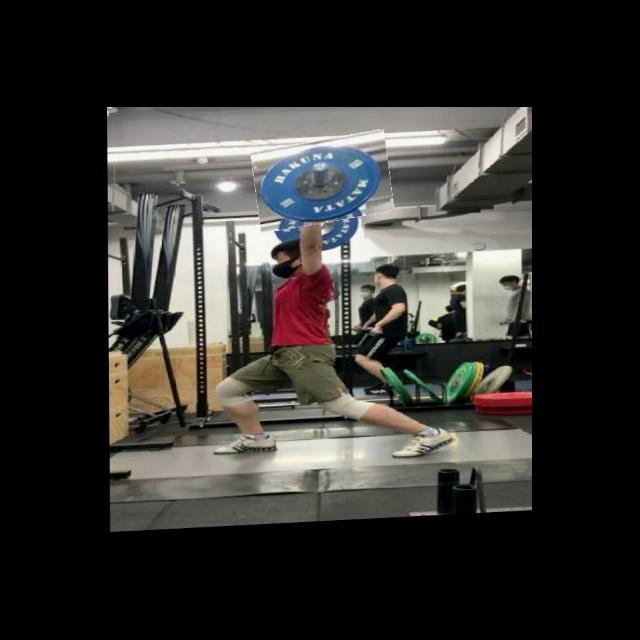barbell: (253, 136, 392, 232)
